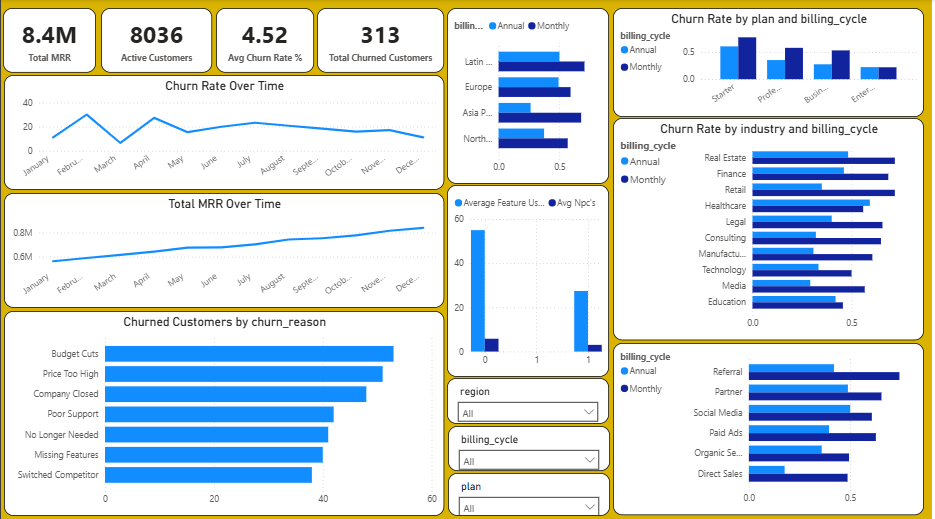

The page's visual inventory and layout, read from the dashboard file:
{"tool":"powerbi","page":{"name":"SaaS Churn Analysis","canvas":[1280,720],"ordinal":0},"visuals":[{"type":"card","fields":{"Values":["monthly_revenue.Total MRR"]},"box":[2.8,12.4,128,89.5],"z":0},{"type":"card","fields":{"Values":["monthly_revenue.Avg Churn Rate %"]},"box":[295.9,12.4,134.9,89.5],"z":1},{"type":"card","fields":{"Values":["monthly_revenue.Active Customers"]},"box":[137.6,12.4,152.8,89.5],"z":2},{"type":"card","fields":{"Values":["Sum(monthly_revenue.churned_customers)"]},"box":[434.9,12.4,174.8,89.5],"z":3},{"type":"lineChart","title":"Churn Rate Over Time","fields":{"Category":["monthly_revenue.month.Variation.Date Hierarchy.Month"],"Y":["Sum(monthly_revenue.monthly_churn_rate_pct)"]},"box":[4.1,104.6,605.6,158.3],"z":4},{"type":"lineChart","title":"Total MRR Over Time","fields":{"Category":["monthly_revenue.month.Variation.Date Hierarchy.Month"],"Y":["Sum(monthly_revenue.total_mrr)"]},"box":[4.1,267,605.6,158.3],"z":5},{"type":"clusteredColumnChart","fields":{"Category":["subscriptions.plan"],"Series":["subscriptions.billing_cycle"],"Y":["subscriptions.Churn Rate"]},"box":[842.3,12.4,428,150],"z":6},{"type":"clusteredBarChart","fields":{"Series":["subscriptions.billing_cycle"],"Y":["subscriptions.Churn Rate"],"Category":["subscriptions.industry"]},"box":[842.3,163.8,428,305.5],"z":7},{"type":"clusteredBarChart","fields":{"Series":["subscriptions.billing_cycle"],"Y":["subscriptions.Churn Rate"],"Category":["subscriptions.region"]},"box":[613.8,12.4,223,242.2],"z":8},{"type":"clusteredBarChart","fields":{"Series":["subscriptions.billing_cycle"],"Y":["subscriptions.Churn Rate"],"Category":["subscriptions.acquisition_channel"]},"box":[842.3,473.5,428,236.7],"z":9},{"type":"clusteredColumnChart","fields":{"Category":["subscriptions.Is Churned"],"Y":["subscriptions.Average Feature Usage","subscriptions.Avg Npc's"]},"box":[613.8,256,223,264.3],"z":10},{"type":"clusteredBarChart","fields":{"Category":["subscriptions.churn_reason"],"Y":["subscriptions.Churned Customers"]},"box":[4.1,429.4,605.6,282.2],"z":11},{"type":"slicer","fields":{"Values":["subscriptions.plan"]},"box":[615.2,652.4,223,59.2],"z":12},{"type":"slicer","fields":{"Values":["subscriptions.billing_cycle"]},"box":[615.2,587.7,223,61.9],"z":13},{"type":"slicer","fields":{"Values":["subscriptions.region"]},"box":[613.8,521.6,223,63.3],"z":14}]}

Visuals, with their boxes in screenshot pixels (x1, y1, x2, y2), scaled from the page's 1280x720 canvas onto the 935x519 screenshot:
card - monthly_revenue.Total MRR: [2,9,96,73]
card - monthly_revenue.Avg Churn Rate %: [216,9,315,73]
card - monthly_revenue.Active Customers: [101,9,212,73]
card - Sum(monthly_revenue.churned_customers): [318,9,445,73]
"Churn Rate Over Time" lineChart: [3,75,445,190]
"Total MRR Over Time" lineChart: [3,192,445,307]
clusteredColumnChart - subscriptions.plan x subscriptions.billing_cycle: [615,9,928,117]
clusteredBarChart - subscriptions.billing_cycle x subscriptions.Churn Rate: [615,118,928,338]
clusteredBarChart - subscriptions.billing_cycle x subscriptions.Churn Rate: [448,9,611,184]
clusteredBarChart - subscriptions.billing_cycle x subscriptions.Churn Rate: [615,341,928,512]
clusteredColumnChart - subscriptions.Is Churned x subscriptions.Average Feature Usage: [448,185,611,375]
clusteredBarChart - subscriptions.churn_reason x subscriptions.Churned Customers: [3,310,445,513]
slicer - subscriptions.plan: [449,470,612,513]
slicer - subscriptions.billing_cycle: [449,424,612,468]
slicer - subscriptions.region: [448,376,611,422]
